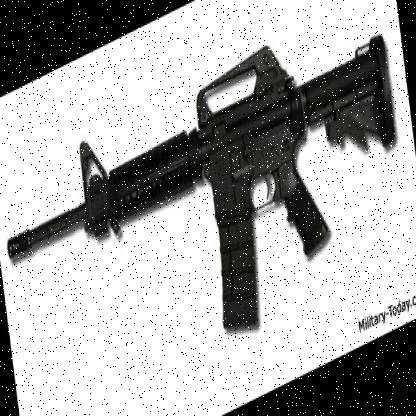rifle: (0, 7, 408, 416)
